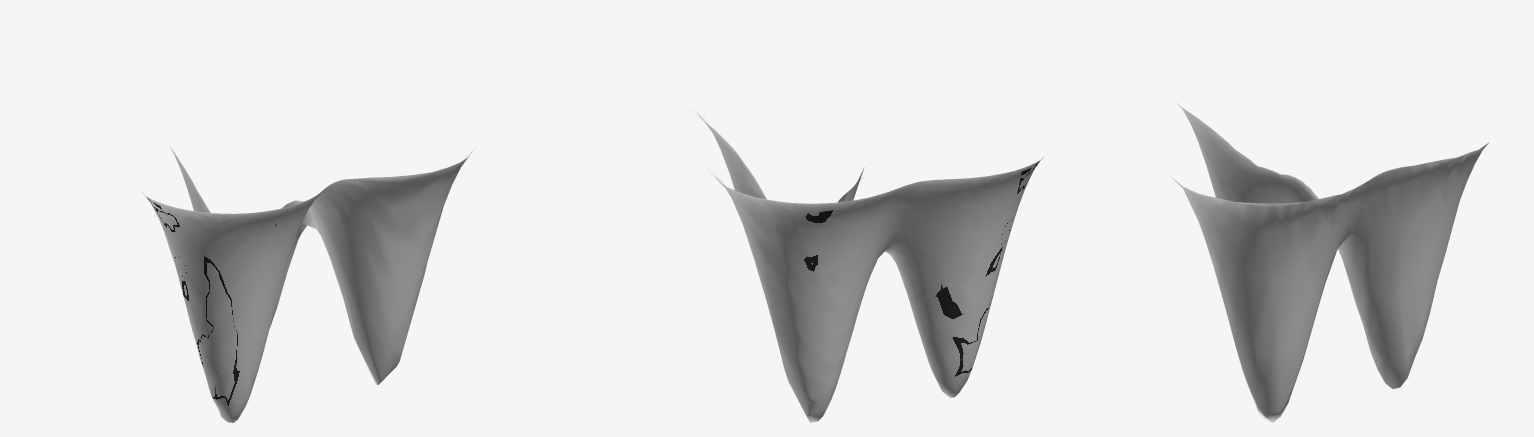
File: cgalref_three_peaks_cgal_authalic_result.glb
3 renders of one model, left to right at view 1: azimuth 30°, elevation 25°; view 2: azimuth 150°, elevation 25°; view 3: azimuth 270°, elevation 25°, orthographic. The views are drawn at different scales.
Visible parts, largest first — view 1: parameterized; view 2: parameterized; view 3: parameterized.
Part boxes in pixels (left/top/right/bottom): parameterized: left=143, top=146, right=473, bottom=422; parameterized: left=688, top=108, right=1043, bottom=422; parameterized: left=1170, top=103, right=1489, bottom=422.
Size of the model in its own units: 100 by 71.64 by 85.71.
1 material, 1 textured.
